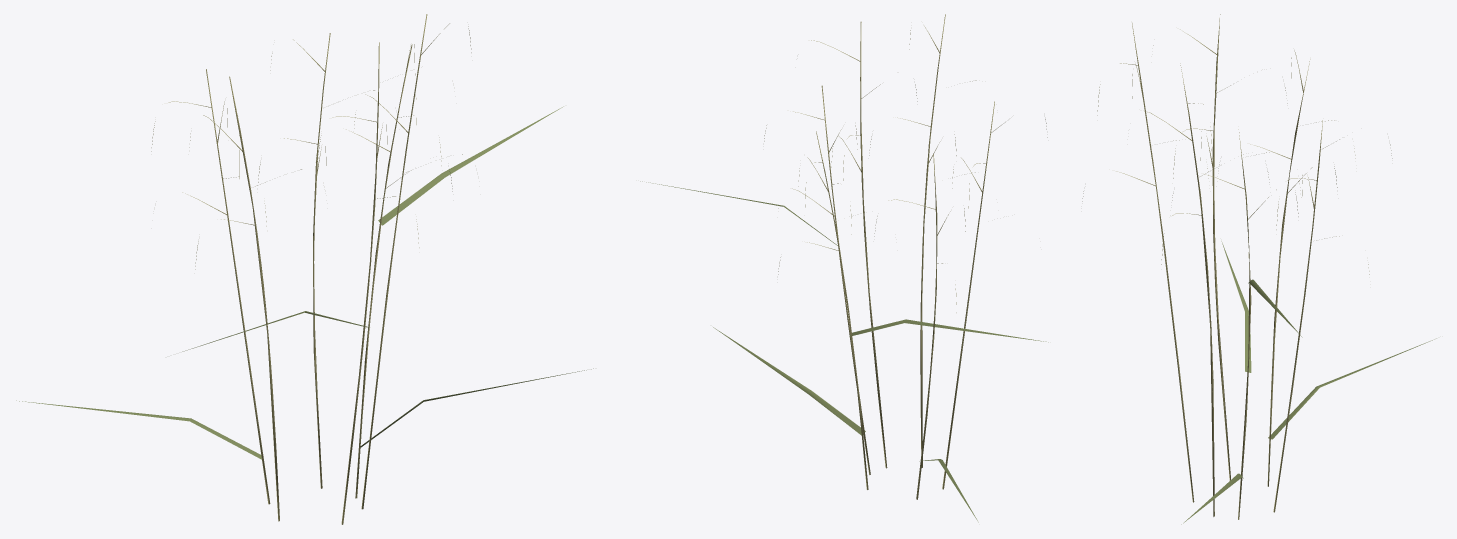
File: Brize_2_Niveau2.fbx
3 renders of one model, left to right at view 1: azimuth 30°, elevation 25°; view 2: azimuth 150°, elevation 25°; view 3: azimuth 270°, elevation 25°, orthographic. The views are drawn at different scales.
Parts seen in each view (by area): view 1: Brize_2_Niveau2; view 2: Brize_2_Niveau2; view 3: Brize_2_Niveau2.
Boxes of the visible parts, x1,y1,x2,y2 form: Brize_2_Niveau2: (16, 14, 593, 524); Brize_2_Niveau2: (640, 14, 1048, 522); Brize_2_Niveau2: (1082, 14, 1436, 524).
Bounding box in the file's own units: 44.64 × 44.84 × 30.49.
